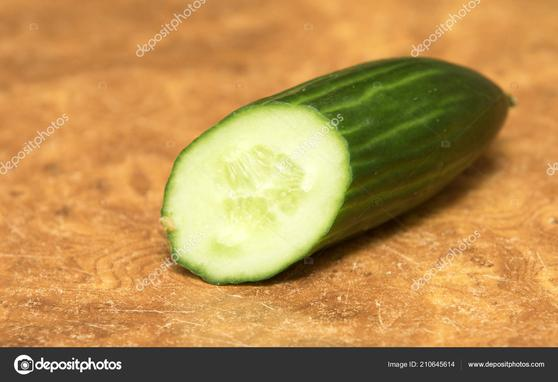cucumber: (290, 57, 526, 257)
